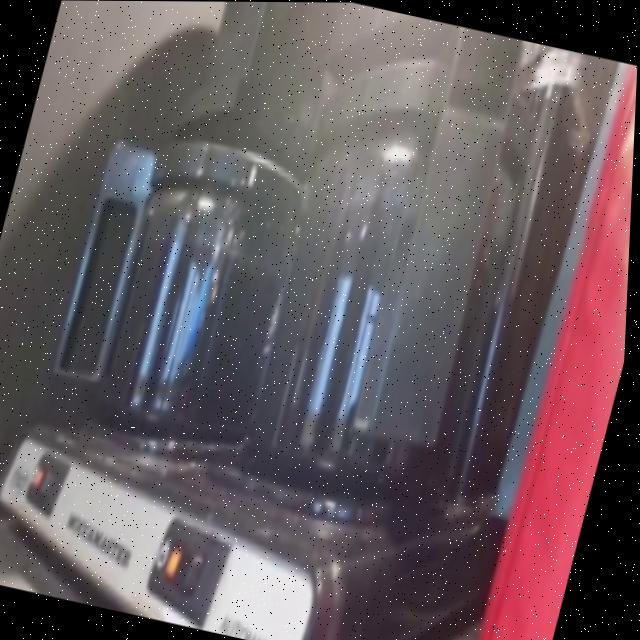coffee: (246, 182, 512, 503), (89, 191, 297, 450)
